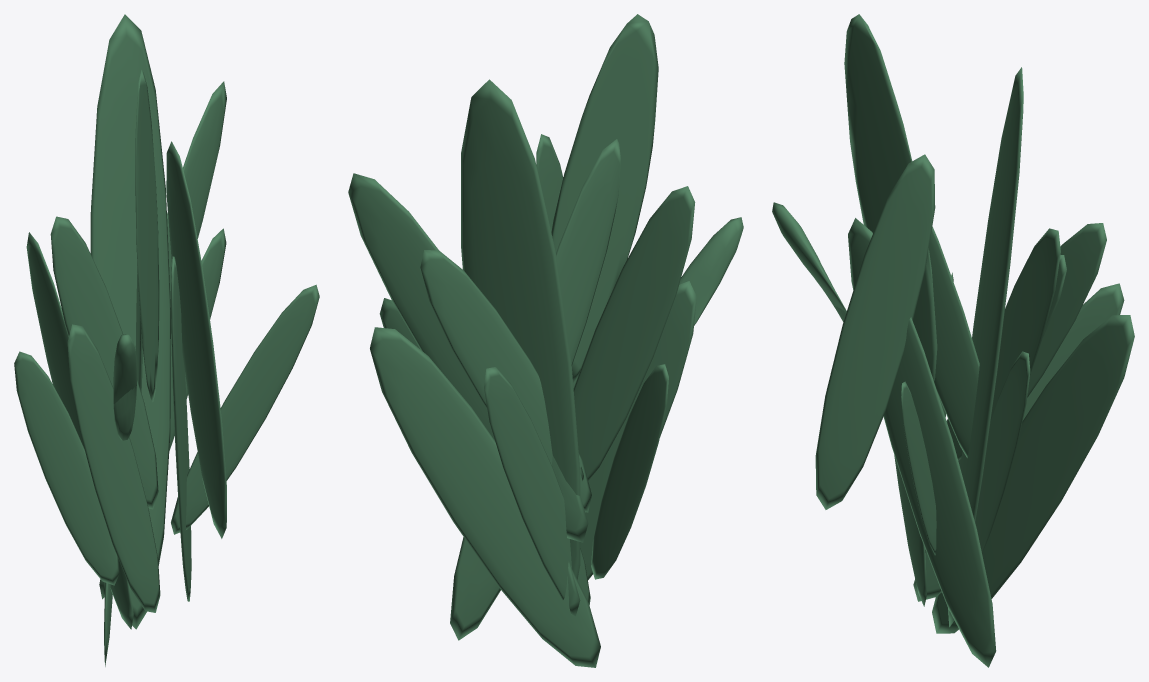
The model's file is grass2.fbx.
3 renders of one model, left to right at view 1: azimuth 30°, elevation 25°; view 2: azimuth 150°, elevation 25°; view 3: azimuth 270°, elevation 25°, orthographic.
Parts seen in each view (by area): view 1: grass.001; view 2: grass.001; view 3: grass.001.
Part boxes in pixels (<box>): grass.001: <box>14,14,319,666</box>; grass.001: <box>348,14,743,667</box>; grass.001: <box>772,14,1134,667</box>.
Size of the model in its own units: 139 by 299 by 159.
